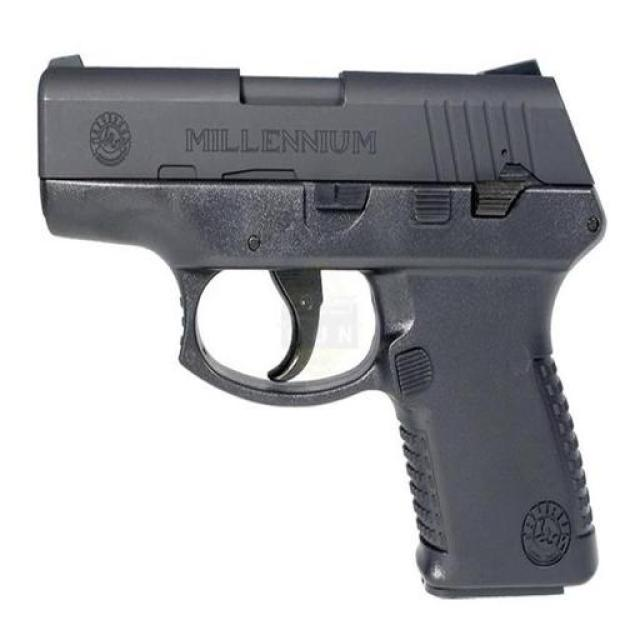pistol: (37, 46, 601, 602)
